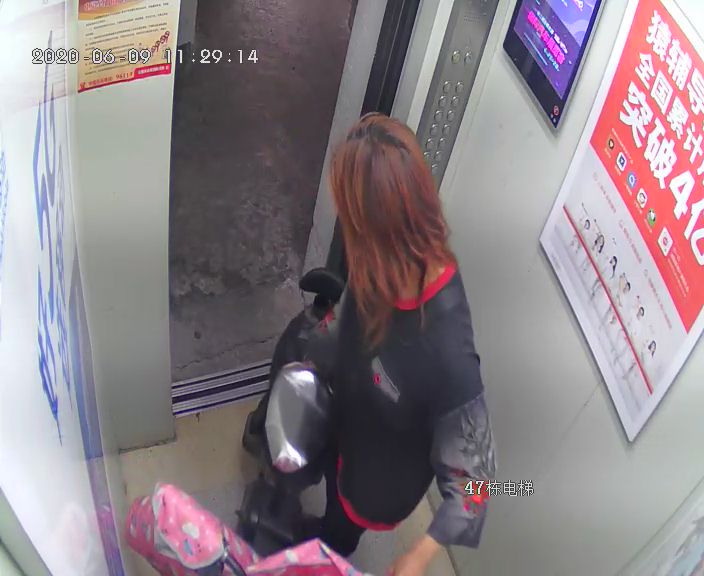Electric-bicycle: (243, 270, 346, 540)
